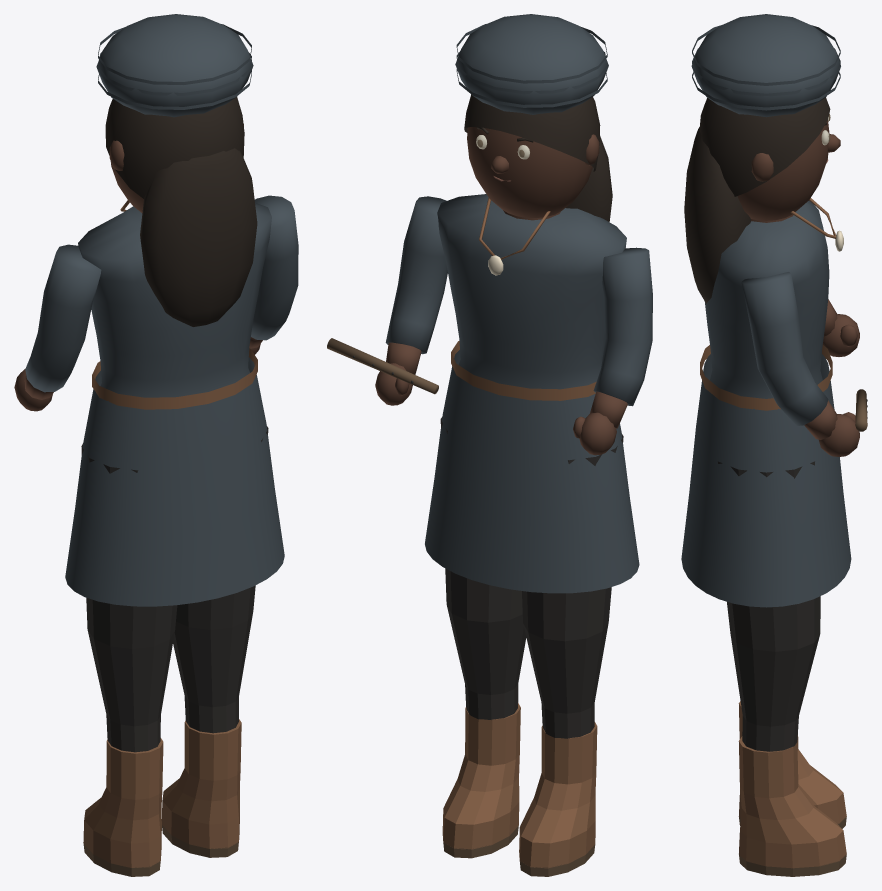
Rendered from SM_NPC_HUMO.glb.
3 renders of one model, left to right at view 1: azimuth 30°, elevation 25°; view 2: azimuth 150°, elevation 25°; view 3: azimuth 270°, elevation 25°, orthographic. The views are drawn at different scales.
Visible parts, largest first — view 1: SM_NPC_HUMO_BODY, SM_NPC_HUMO_HAIR, SM_NPC_HUMO_LEG_L, SM_NPC_HUMO_LEG_R, SM_NPC_HUMO_ARM_L, SM_NPC_HUMO_ARM_R, SM_NPC_HUMO_HEAD; view 2: SM_NPC_HUMO_BODY, SM_NPC_HUMO_LEG_L, SM_NPC_HUMO_HAIR, SM_NPC_HUMO_LEG_R, SM_NPC_HUMO_ARM_L, SM_NPC_HUMO_ARM_R, SM_NPC_HUMO_HEAD; view 3: SM_NPC_HUMO_BODY, SM_NPC_HUMO_HAIR, SM_NPC_HUMO_LEG_R, SM_NPC_HUMO_ARM_R, SM_NPC_HUMO_HEAD, SM_NPC_HUMO_LEG_L, SM_NPC_HUMO_ARM_L.
Part boxes in pixels (x1=…): SM_NPC_HUMO_BODY: x1=65, y1=200, x2=284, y2=606; SM_NPC_HUMO_HAIR: x1=96, y1=14, x2=257, y2=326; SM_NPC_HUMO_LEG_L: x1=81, y1=443, x2=177, y2=876; SM_NPC_HUMO_LEG_R: x1=161, y1=426, x2=268, y2=857; SM_NPC_HUMO_ARM_L: x1=14, y1=244, x2=101, y2=411; SM_NPC_HUMO_ARM_R: x1=249, y1=195, x2=298, y2=354; SM_NPC_HUMO_HEAD: x1=109, y1=124, x2=243, y2=212; SM_NPC_HUMO_BODY: x1=425, y1=194, x2=639, y2=593; SM_NPC_HUMO_LEG_L: x1=519, y1=433, x2=623, y2=876; SM_NPC_HUMO_HAIR: x1=455, y1=14, x2=612, y2=221; SM_NPC_HUMO_LEG_R: x1=440, y1=417, x2=526, y2=858; SM_NPC_HUMO_ARM_L: x1=573, y1=247, x2=652, y2=455; SM_NPC_HUMO_ARM_R: x1=327, y1=196, x2=447, y2=405; SM_NPC_HUMO_HEAD: x1=467, y1=127, x2=599, y2=217; SM_NPC_HUMO_BODY: x1=681, y1=198, x2=851, y2=607; SM_NPC_HUMO_HAIR: x1=684, y1=14, x2=840, y2=303; SM_NPC_HUMO_LEG_R: x1=717, y1=461, x2=846, y2=876; SM_NPC_HUMO_ARM_R: x1=741, y1=272, x2=867, y2=456; SM_NPC_HUMO_HEAD: x1=737, y1=120, x2=840, y2=220; SM_NPC_HUMO_LEG_L: x1=738, y1=701, x2=846, y2=828; SM_NPC_HUMO_ARM_L: x1=823, y1=299, x2=859, y2=356.
Bounding box in the file's own units: 0.6766 × 1.88 × 0.3866.
